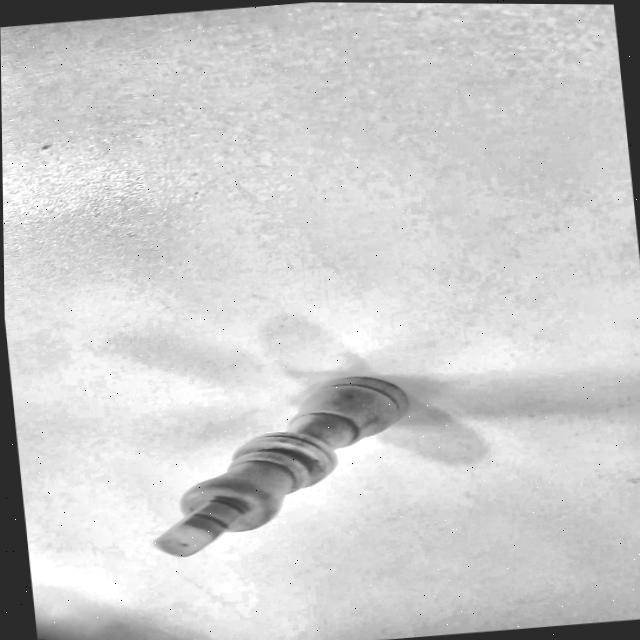white-king: (155, 376, 409, 556)
